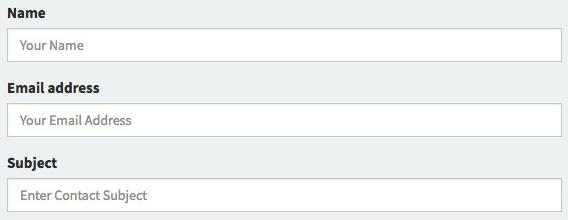field: (5, 101, 564, 138), (5, 176, 563, 213), (6, 26, 563, 63)
field_with_label: (4, 5, 564, 66), (3, 155, 565, 215), (3, 82, 565, 140)
